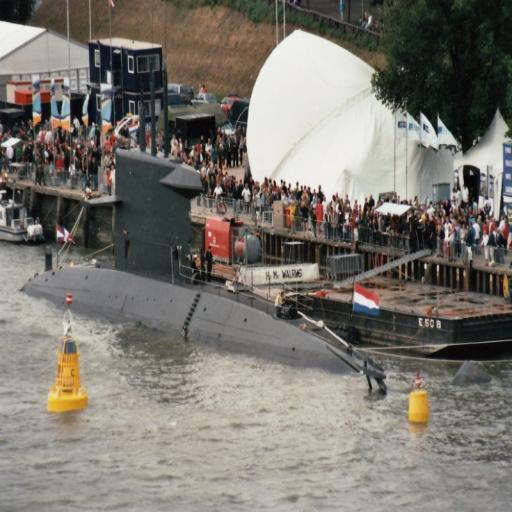submarine: (16, 149, 391, 385)
